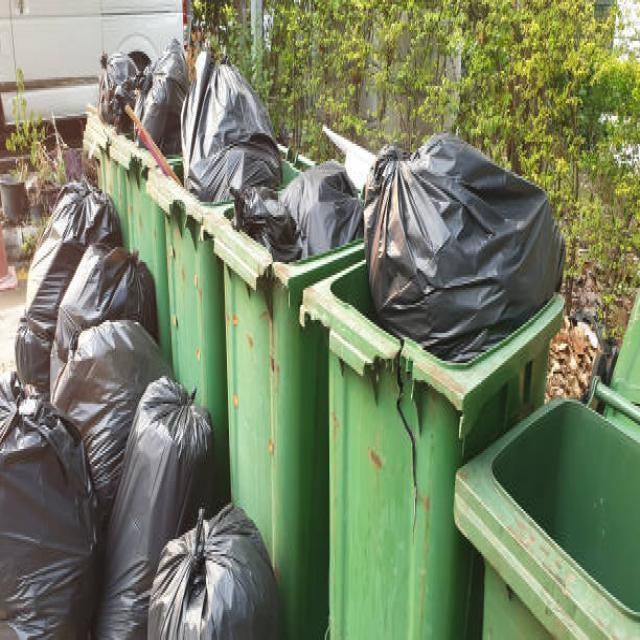Trashbag: (370, 135, 560, 357), (0, 416, 102, 639), (24, 193, 156, 341), (111, 371, 216, 550), (151, 520, 269, 640), (177, 56, 273, 202), (238, 158, 360, 265), (57, 329, 159, 445), (129, 39, 188, 158), (85, 43, 145, 124)
